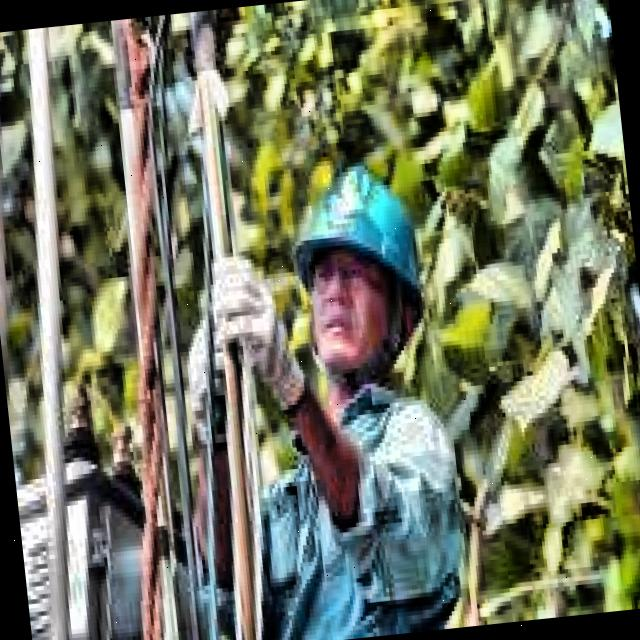helmet: (266, 142, 452, 412)
